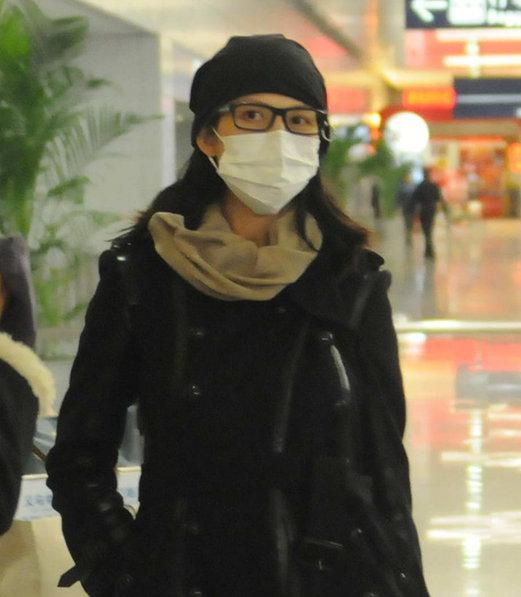OK: (217, 95, 323, 203)
